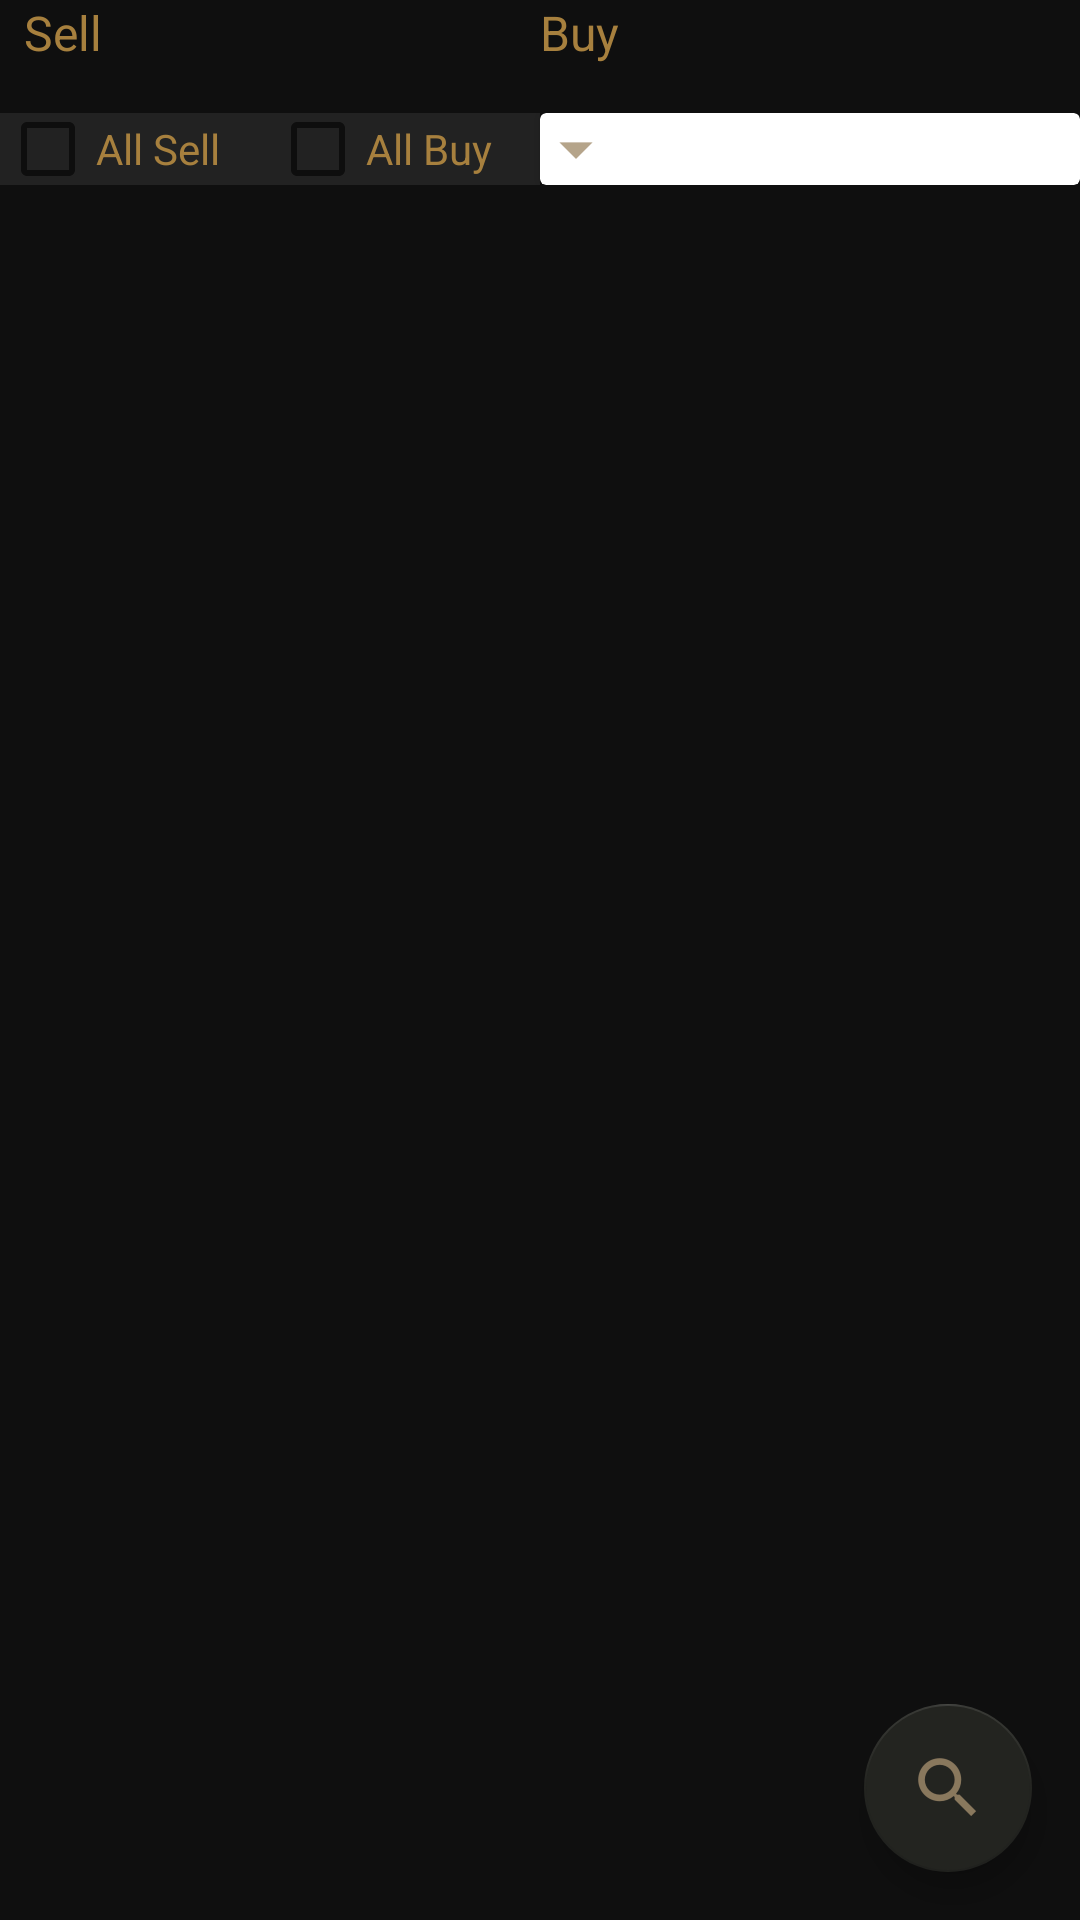

Where to tap for icons on this 1080×1920 app screen, as point (x, y):
drop down: point (576, 149)
search: point (948, 1788)
